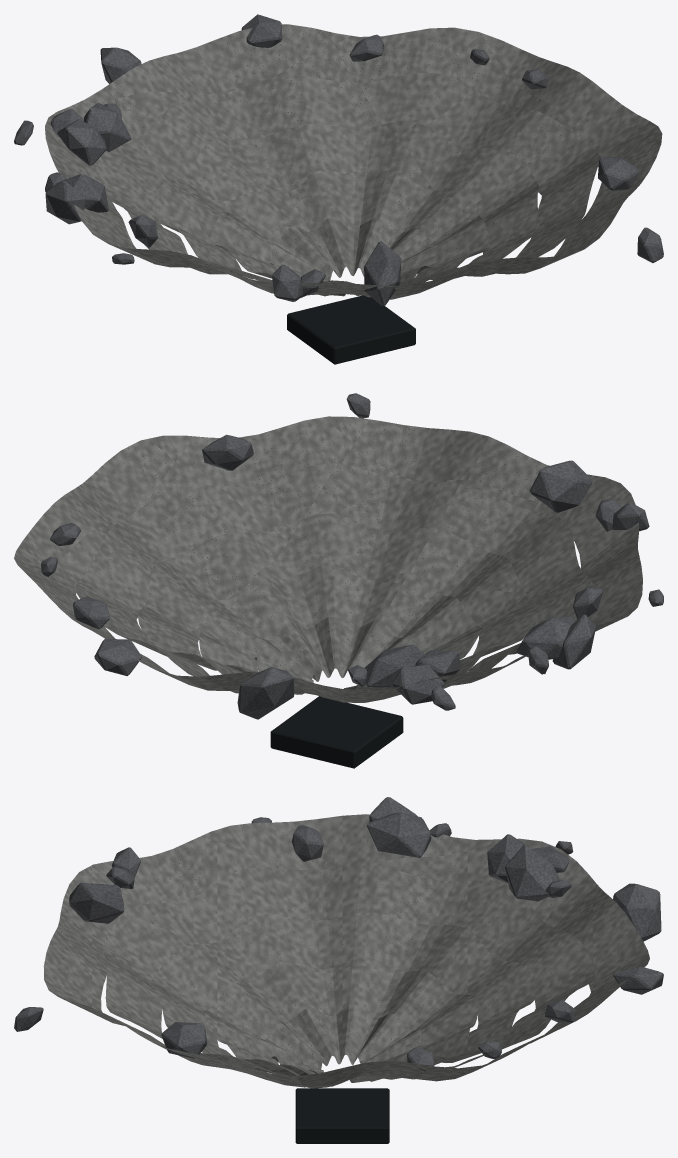
File: dust-sinkhole.glb
3 renders of one model, top to bottom at view 1: azimuth 30°, elevation 25°; view 2: azimuth 150°, elevation 25°; view 3: azimuth 270°, elevation 25°, orthographic. The views are drawn at different scales.
Parts seen in each view (by area): view 1: Subsiding annulus 4 • editable solid geometry, Subsiding annulus 3 • editable solid geometry, Subsiding annulus 2 • editable solid geometry, dust-sinkhole • editable solid geometry, Subsiding annulus 1 • editable solid geometry, Subsiding annulus 0 • editable solid geometry; view 2: Subsiding annulus 4 • editable solid geometry, Subsiding annulus 3 • editable solid geometry, Subsiding annulus 2 • editable solid geometry, dust-sinkhole • editable solid geometry, Subsiding annulus 1 • editable solid geometry, Subsiding annulus 0 • editable solid geometry; view 3: Subsiding annulus 4 • editable solid geometry, Subsiding annulus 3 • editable solid geometry, Subsiding annulus 2 • editable solid geometry, dust-sinkhole • editable solid geometry, Subsiding annulus 1 • editable solid geometry, Subsiding annulus 0 • editable solid geometry.
Boxes of the visible parts, x1,y1,x2,y2 form: Subsiding annulus 4 • editable solid geometry: (45,24,662,297); Subsiding annulus 3 • editable solid geometry: (96,73,599,299); Subsiding annulus 2 • editable solid geometry: (152,121,539,284); dust-sinkhole • editable solid geometry: (14,14,663,364); Subsiding annulus 1 • editable solid geometry: (210,170,489,297); Subsiding annulus 0 • editable solid geometry: (270,216,435,296); Subsiding annulus 4 • editable solid geometry: (14,416,642,702); Subsiding annulus 3 • editable solid geometry: (75,463,593,693); Subsiding annulus 2 • editable solid geometry: (137,513,540,690); dust-sinkhole • editable solid geometry: (41,393,663,768); Subsiding annulus 1 • editable solid geometry: (199,565,482,694); Subsiding annulus 0 • editable solid geometry: (252,617,418,694); Subsiding annulus 4 • editable solid geometry: (43,814,649,1087); Subsiding annulus 3 • editable solid geometry: (103,865,594,1088); Subsiding annulus 2 • editable solid geometry: (151,912,536,1086); dust-sinkhole • editable solid geometry: (14,797,663,1143); Subsiding annulus 1 • editable solid geometry: (203,957,478,1081); Subsiding annulus 0 • editable solid geometry: (259,1004,421,1082).
Bounding box in the file's own units: 6.53 × 2.36 × 6.92.
Materials: 3 (2 with a texture image).
